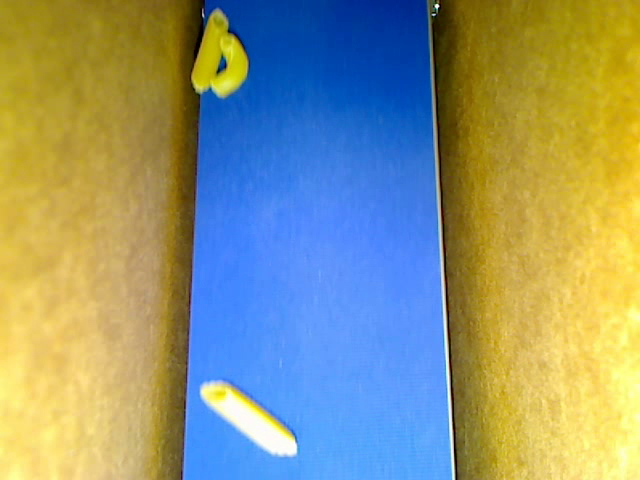elbow: (211, 33, 248, 98)
penne: (199, 378, 297, 457), (190, 9, 228, 92)
